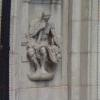Statue: (24, 6, 68, 87)
